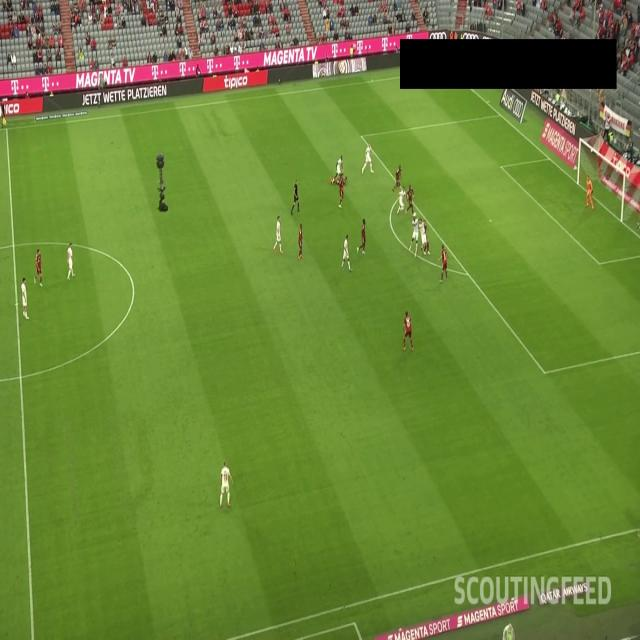ball: (414, 211, 419, 220)
player: (219, 459, 231, 501), (20, 278, 32, 319), (67, 241, 77, 280), (34, 248, 45, 283), (404, 311, 413, 348), (364, 141, 374, 174), (274, 213, 282, 253), (330, 170, 348, 187), (337, 177, 346, 211), (421, 216, 429, 254), (342, 236, 350, 273), (396, 184, 406, 213), (359, 216, 367, 252), (297, 220, 304, 260), (585, 173, 593, 208), (441, 242, 448, 281), (392, 161, 402, 188), (418, 220, 426, 250), (335, 150, 343, 179), (412, 213, 417, 254), (408, 184, 413, 214)
